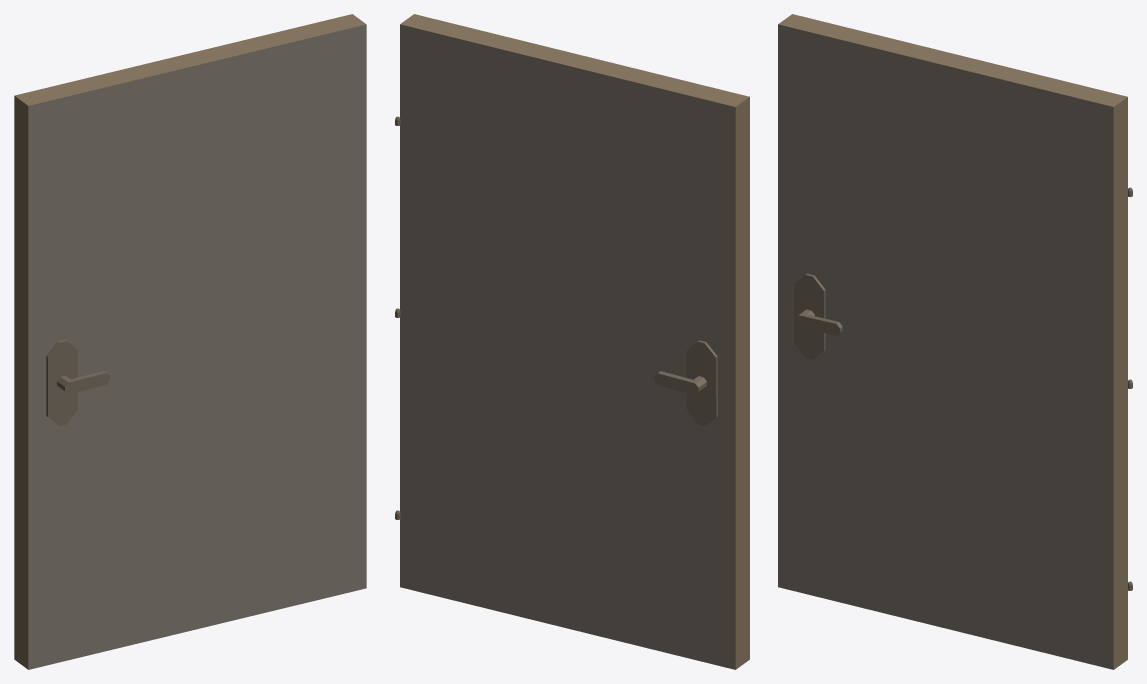
File: porte_toilettes.fbx
3 views of the same model, side by side, from view 1: azimuth 30°, elevation 25°; view 2: azimuth 150°, elevation 25°; view 3: azimuth 330°, elevation 25° (orthographic).
Parts seen in each view (by area): view 1: porte_toilt; view 2: porte_toilt; view 3: porte_toilt.
Part boxes in pixels (x1,y1,x2,y2): porte_toilt: (14,14,366,669); porte_toilt: (395,14,749,669); porte_toilt: (778,14,1132,669).
Bounding box in the file's own units: 375 × 593 × 64.86.
